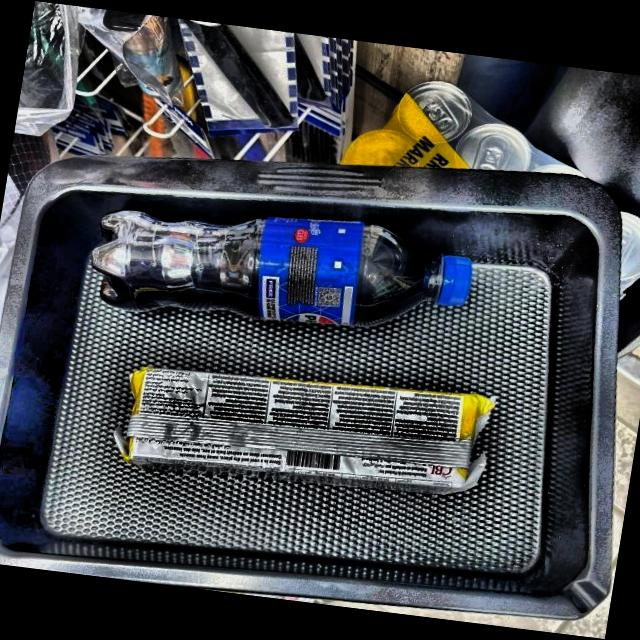lemon puff: (103, 374, 500, 488)
pepsi-bottle: (92, 215, 467, 323)
